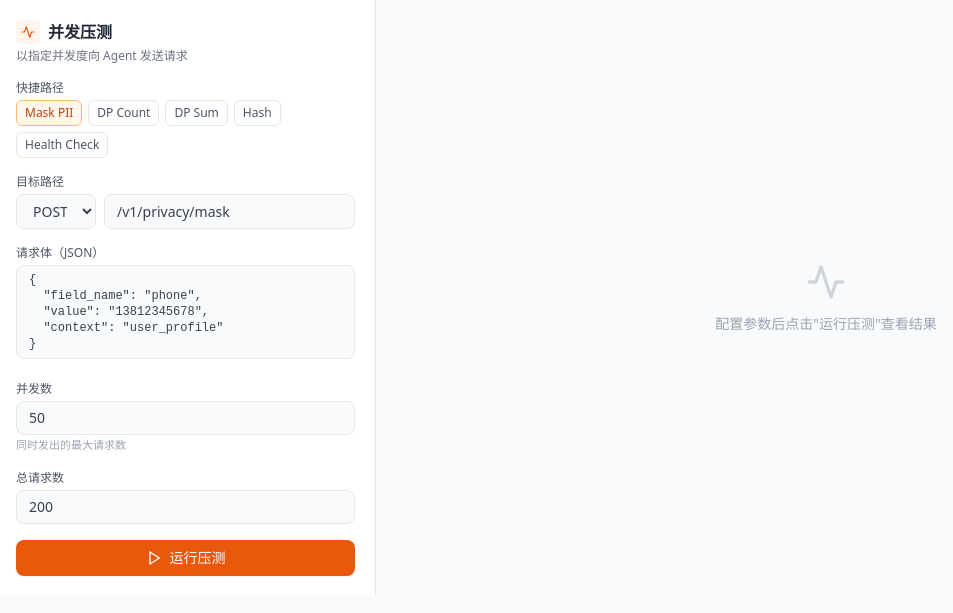
Test case: ConcurrencyTestPanel › 点击 Health Check 预设切换为 GET 方法并清空请求体
Click the button "Health Check": click(62, 145) [16,132,108,158]
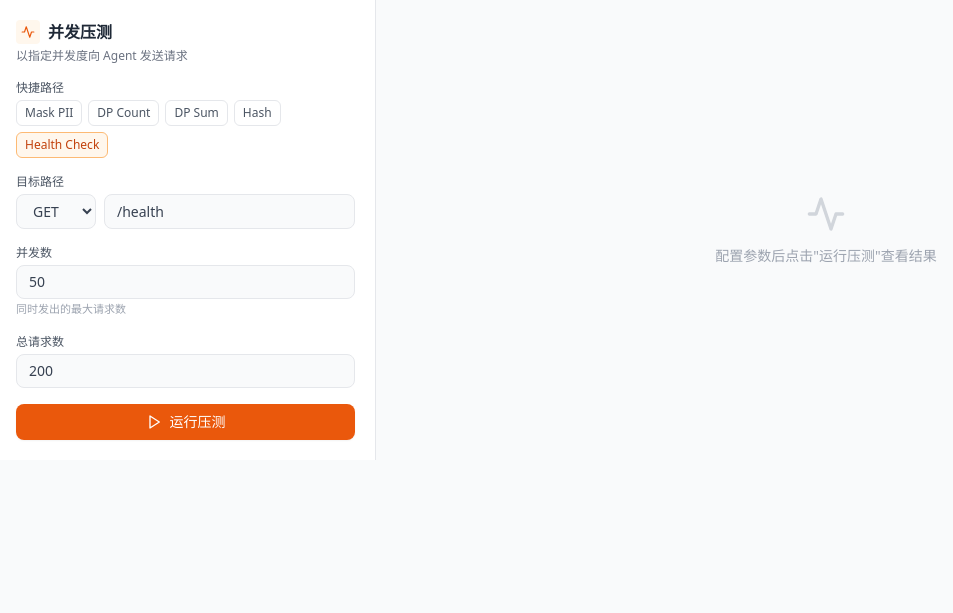
Expected: the field with placeholder "/v1/privacy/mask" holds "/health", [104,194,355,229]
